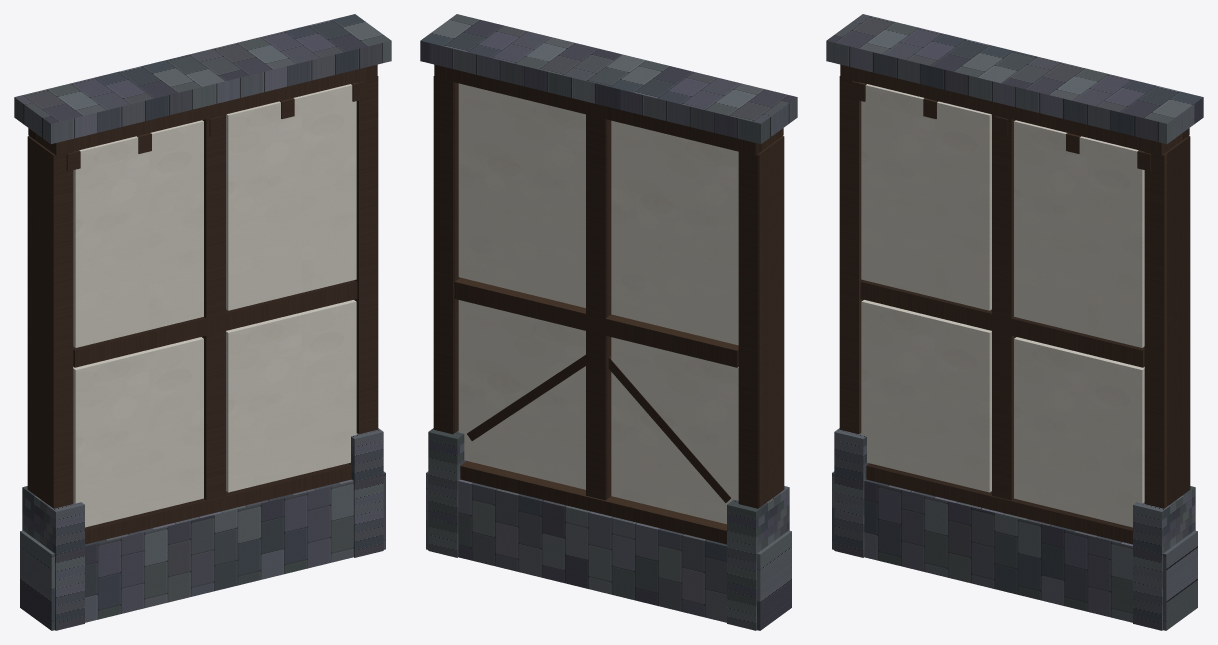
The model's file is WallPlasterPanel.glb.
The picture shows the model from 3 angles, left to right: view 1: azimuth 30°, elevation 25°; view 2: azimuth 150°, elevation 25°; view 3: azimuth 330°, elevation 25°; orthographic projection.
Visible parts, largest first — view 1: WallPlasterPanel; view 2: WallPlasterPanel; view 3: WallPlasterPanel.
Boxes of the visible parts, bbox=[...] form: WallPlasterPanel: bbox=[14, 14, 391, 630]; WallPlasterPanel: bbox=[420, 14, 797, 630]; WallPlasterPanel: bbox=[826, 14, 1203, 630].
Bounding box in the file's own units: 2.1 × 3 × 0.39.
Materials: 3 (3 with a texture image).
